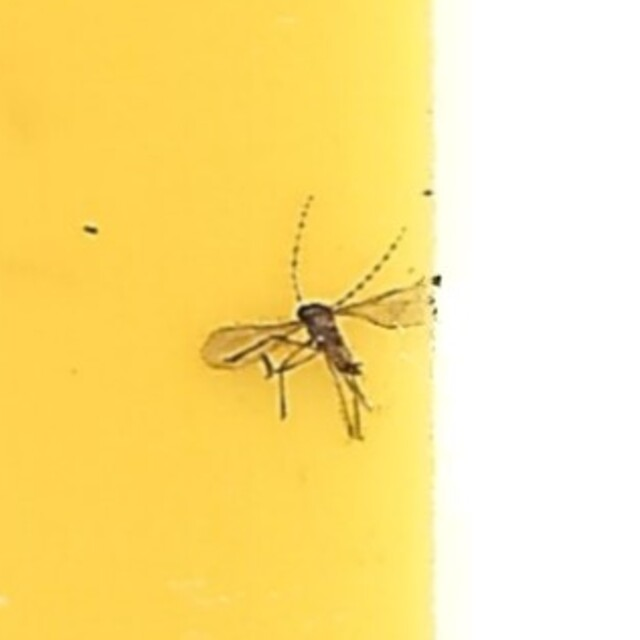Nematocera: (203, 199, 437, 441)
